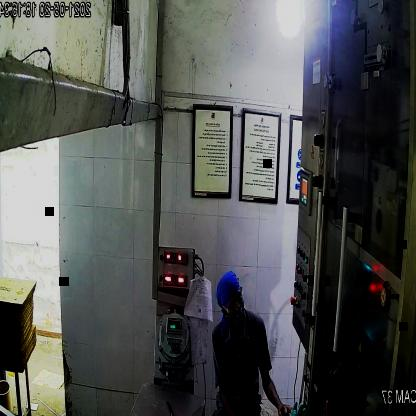goggles: (224, 288, 245, 317)
